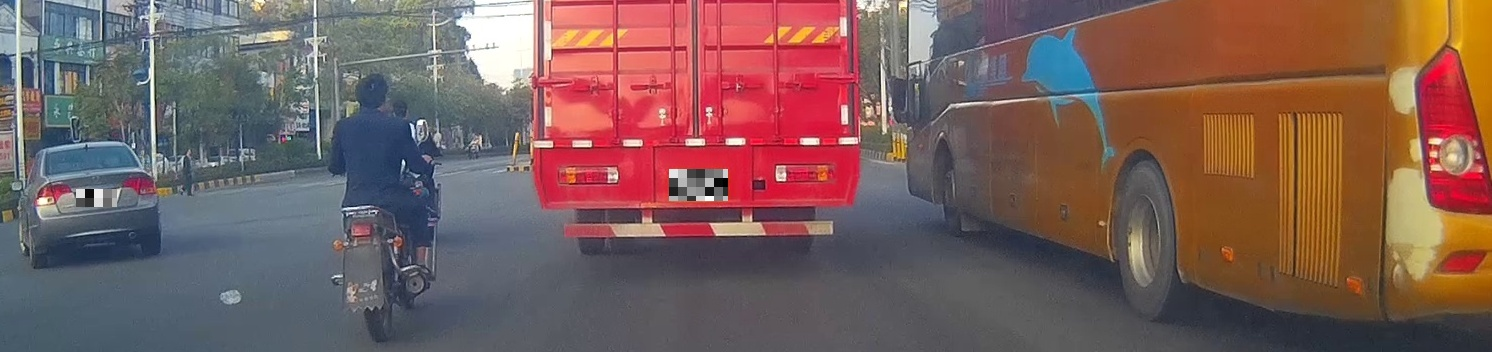L_light: (34, 180, 72, 206)
R_light: (122, 175, 159, 196)
T_light: (76, 147, 96, 152)
day-left: (33, 141, 161, 258)
plate_1: (76, 189, 117, 207)
plate_2: (669, 169, 728, 201)
